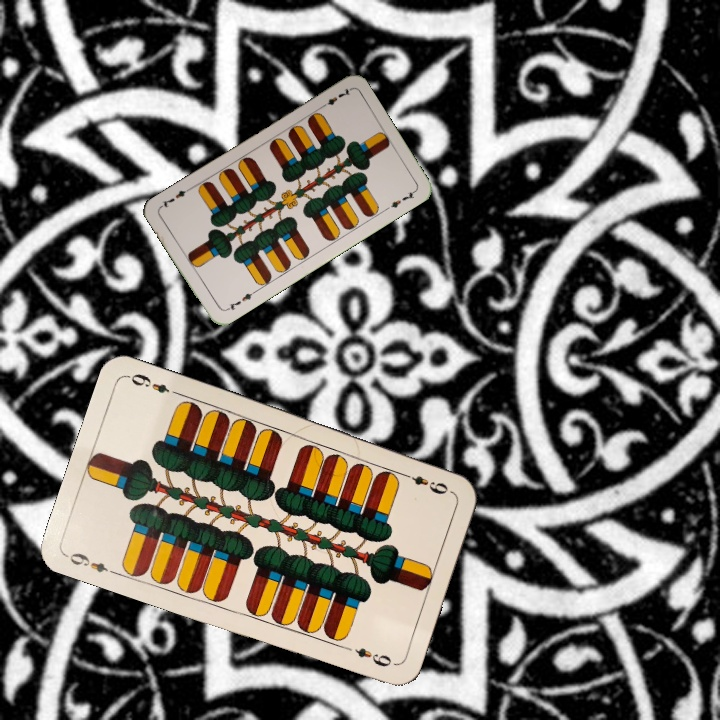E7: (221, 287, 258, 314), (317, 84, 353, 111)
E9: (62, 548, 119, 578), (397, 468, 451, 497)
